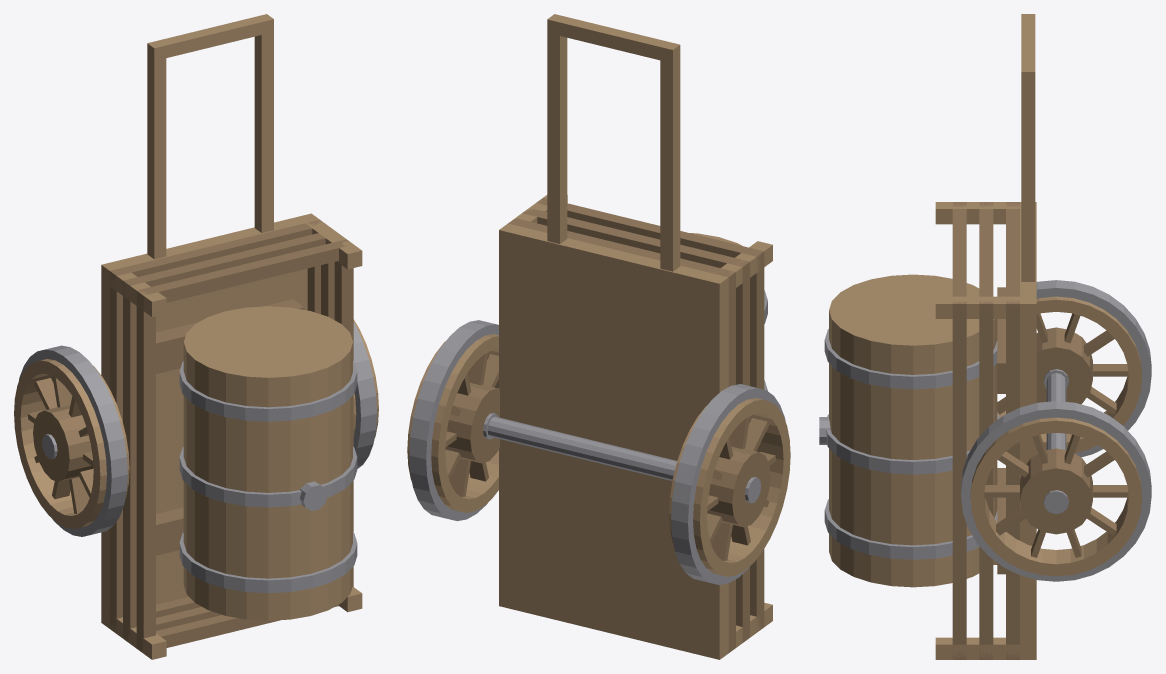
File: holzwagen_fass.glb
The picture shows the model from 3 angles, left to right: view 1: azimuth 30°, elevation 25°; view 2: azimuth 150°, elevation 25°; view 3: azimuth 270°, elevation 25°; orthographic projection. The views are drawn at different scales.
Visible parts, largest first — view 1: p51, p0, p9, p19, p18, p5, p46, p47, p12, p1, p20, p52 (+18 smaller); view 2: p0, p19, p18, p32, p33, p46, p47, p17, p20, p34, p9, p48 (+8 smaller); view 3: p51, p33, p32, p10, p0, p34, p6, p19, p2, p18, p47, p20 (+13 smaller).
Part boxes in pixels (<box>): p51: <box>183,306,352,620</box>; p0: <box>101,213,319,628</box>; p9: <box>136,287,155,652</box>; p19: <box>14,359,129,529</box>; p18: <box>18,345,127,536</box>; p5: <box>123,280,136,642</box>; p46: <box>147,50,166,259</box>; p47: <box>254,25,273,232</box>; p12: <box>136,239,349,303</box>; p1: <box>109,268,128,633</box>; p20: <box>33,405,93,481</box>; p52: <box>179,532,357,593</box>; p0: <box>499,223,728,659</box>; p19: <box>669,398,790,576</box>; p18: <box>671,384,785,584</box>; p32: <box>409,320,498,521</box>; p33: <box>407,334,498,512</box>; p46: <box>660,53,680,271</box>; p47: <box>547,26,567,243</box>; p17: <box>487,416,677,480</box>; p20: <box>707,446,770,527</box>; p34: <box>445,382,499,463</box>; p9: <box>750,250,764,630</box>; p48: <box>547,14,680,63</box>; p51: <box>829,274,997,587</box>; p33: <box>970,417,1142,576</box>; p32: <box>961,401,1151,581</box>; p10: <box>952,301,966,659</box>; p0: <box>1020,202,1036,659</box>; p34: <box>1020,448,1092,534</box>; p6: <box>979,300,993,659</box>; p19: <box>997,296,1142,453</box>; p2: <box>1006,300,1019,659</box>; p18: <box>1036,280,1151,457</box>; p47: <box>1021,78,1035,281</box>; p20: <box>1036,327,1092,404</box>.
Size of the model in its own units: 1.21 by 2.22 by 1.18.
